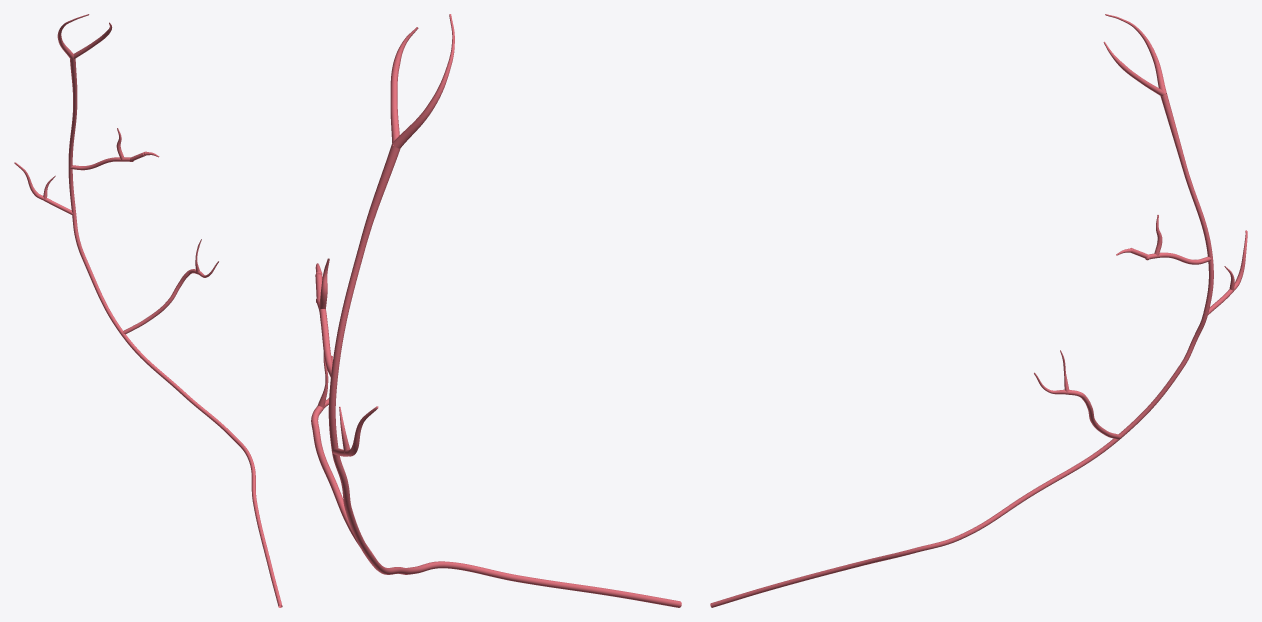
The picture shows the model from 3 angles, left to right: view 1: azimuth 30°, elevation 25°; view 2: azimuth 150°, elevation 25°; view 3: azimuth 270°, elevation 25°; orthographic projection. The views are drawn at different scales.
Parts seen in each view (by area): view 1: ZA_a04522c0f3dcb2e9; view 2: ZA_a04522c0f3dcb2e9; view 3: ZA_a04522c0f3dcb2e9.
Part boxes in pixels (x1,y1,x2,y2): ZA_a04522c0f3dcb2e9: (14,14,282,607); ZA_a04522c0f3dcb2e9: (311,14,681,607); ZA_a04522c0f3dcb2e9: (710,14,1247,607).
Size of the model in its own units: 0.0322 by 0.1269 by 0.107.
